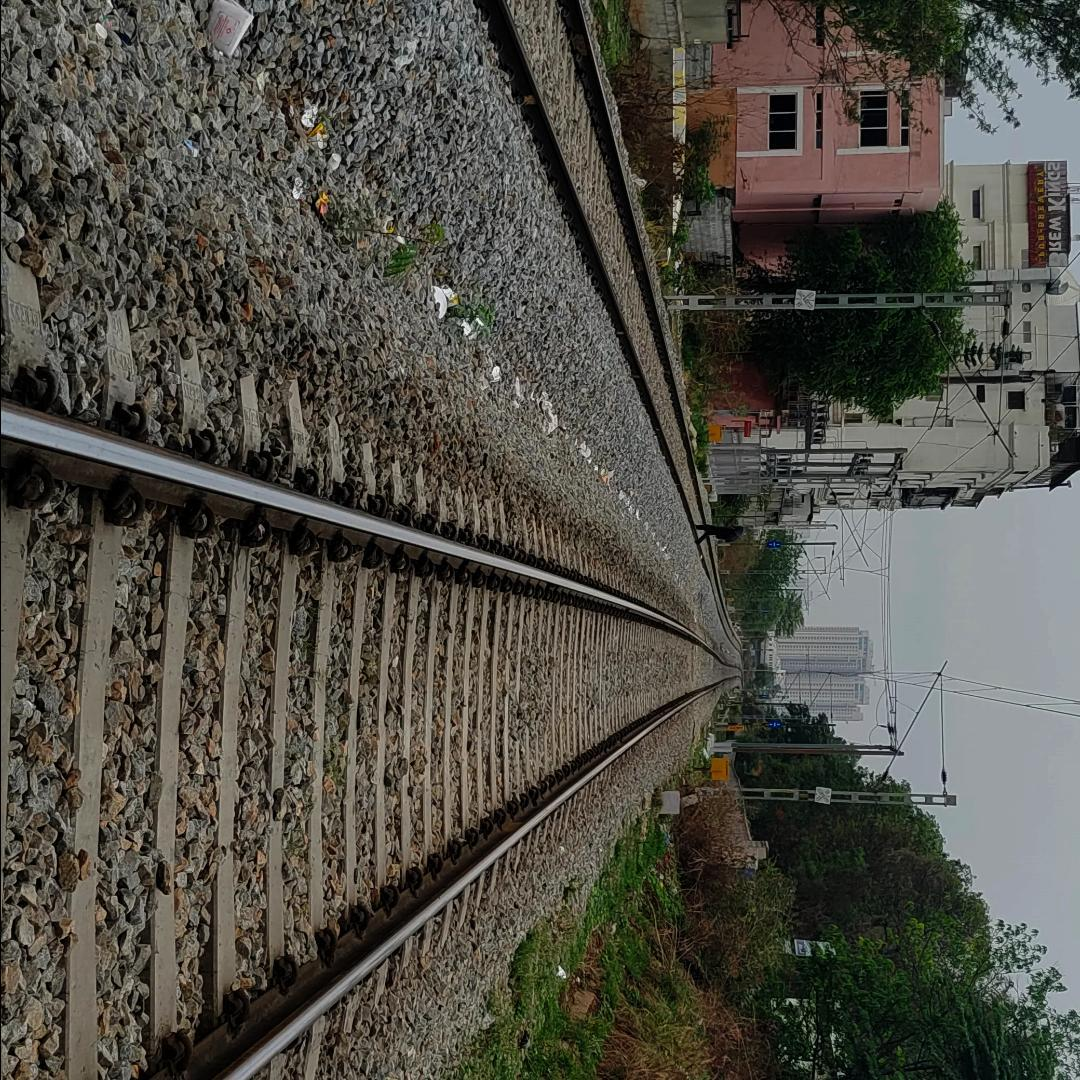standing: (682, 516, 746, 546)
track: (0, 304, 749, 1080)
